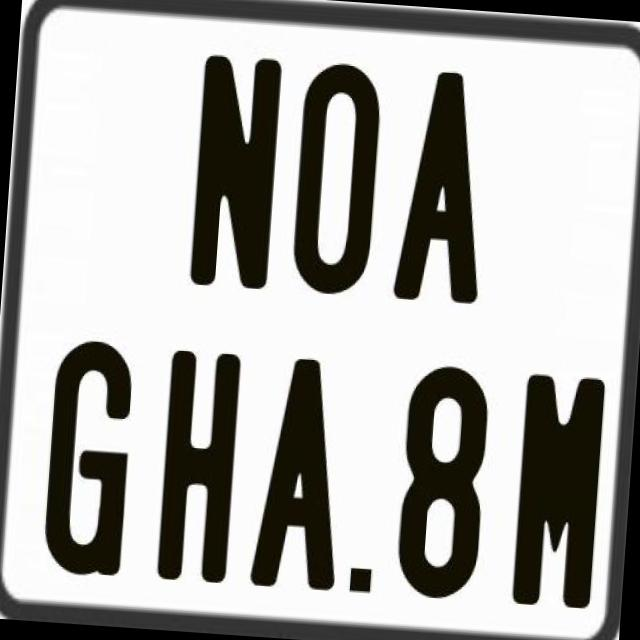0: (286, 61, 384, 303)
8: (390, 362, 488, 600)
A: (246, 354, 350, 592), (392, 65, 496, 302)
G: (38, 338, 138, 577)
H: (154, 344, 244, 580)
M: (509, 373, 608, 615)
N: (185, 53, 288, 290)
